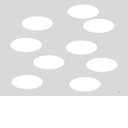round: (19, 13, 55, 32), (8, 73, 44, 92), (9, 35, 43, 54), (66, 76, 103, 92), (84, 57, 120, 73), (65, 38, 98, 55), (32, 55, 66, 70)
